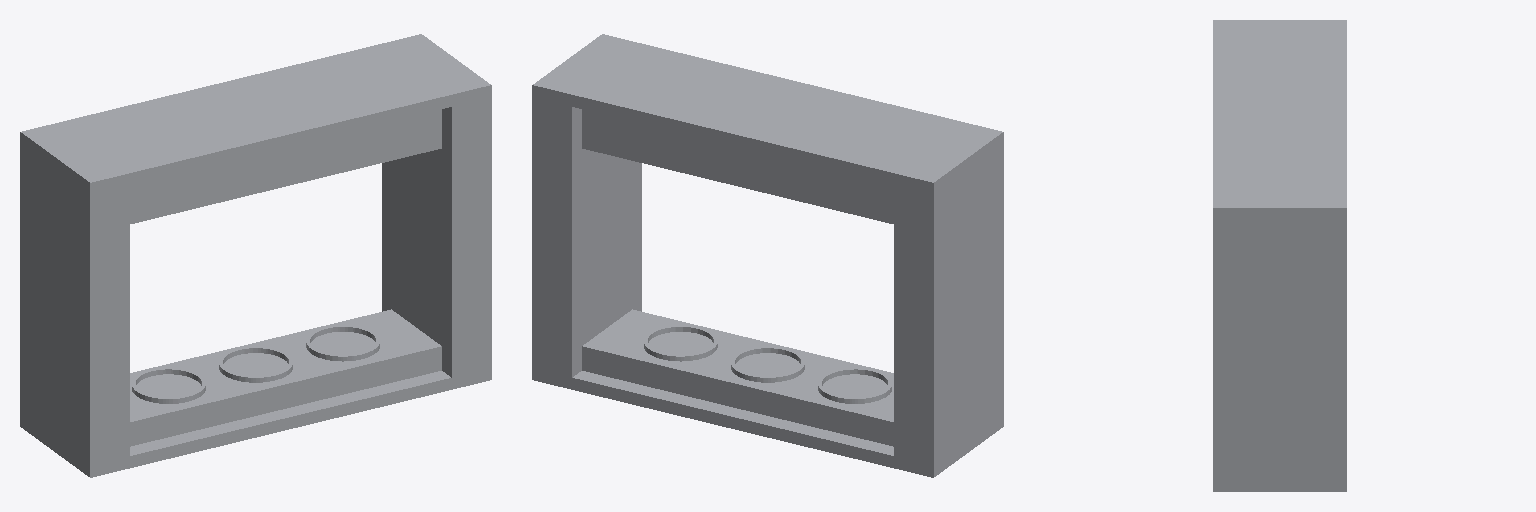
URDF robot description (brewing_machine):
<?xml version="1.0"?>
<!--
  brewing_machine.urdf
  바탕화면 Mooi_MO3_Brewing_Machine.step → 변환. 단일 바디(링크 1개).
  - 원본 STEP 단위 mm → 메쉬 좌표 자체를 m로 스케일 (scale="1 1 1")
  - 원점: 바닥면 한쪽 모서리 (x:0~0.69, y:0~0.208, z:0~0.485)
  - 치수 0.69 x 0.208 x 0.485 m (삼각형 1,480면)
  - 시각(visual): 원본 메쉬. 충돌(collision): 박스로 단순화(치수=메쉬 바운딩박스)
  - 정적 소품(작업대/스탠드 위 거치)이므로 스폰 시 AssetOptions.fix_base_link=True 권장
-->
<robot name="brewing_machine">

  <material name="brewer_steel"> <color rgba="0.72 0.73 0.75 1.0"/> </material>

  <link name="base_link">
    <inertial>
      <origin xyz="0.345 0.104 0.2425"/>
      <mass value="15.0"/>
      <!-- 박스 관성 (m=15, 0.69x0.208x0.485) -->
      <inertia ixx="0.3481" ixy="0" ixz="0" iyy="0.8891" iyz="0" izz="0.6493"/>
    </inertial>

    <visual>
      <origin xyz="0 0 0"/>
      <geometry><mesh filename="meshes/brewing_machine.stl" scale="1 1 1"/></geometry>
      <material name="brewer_steel"/>
    </visual>

    <collision>
      <origin xyz="0.345 0.104 0.2425"/>
      <geometry><box size="0.69 0.208 0.485"/></geometry>
    </collision>
  </link>
</robot>

--- What the picture shows (computed from the rendered views, not written in the file) ---
Views: 3 orthographic renders of the robot side by side, from view 1: azimuth 30°, elevation 25°; view 2: azimuth 150°, elevation 25°; view 3: azimuth 270°, elevation 25°.
Model brewing_machine with 1 links and 0 joints (none), rooted at base_link, posed all joints at 0.
Links seen in each view (by area): view 1: base_link; view 2: base_link; view 3: base_link.
Link boxes in pixels (box(x1,y1,x2,y2)): base_link: box(20, 34, 491, 477); base_link: box(532, 34, 1003, 477); base_link: box(1213, 20, 1346, 491).
Size in the robot's own frame: 0.69 by 0.208 by 0.485 metres.
1 mesh visuals loaded from 1 distinct referenced files (1 binary STL).
